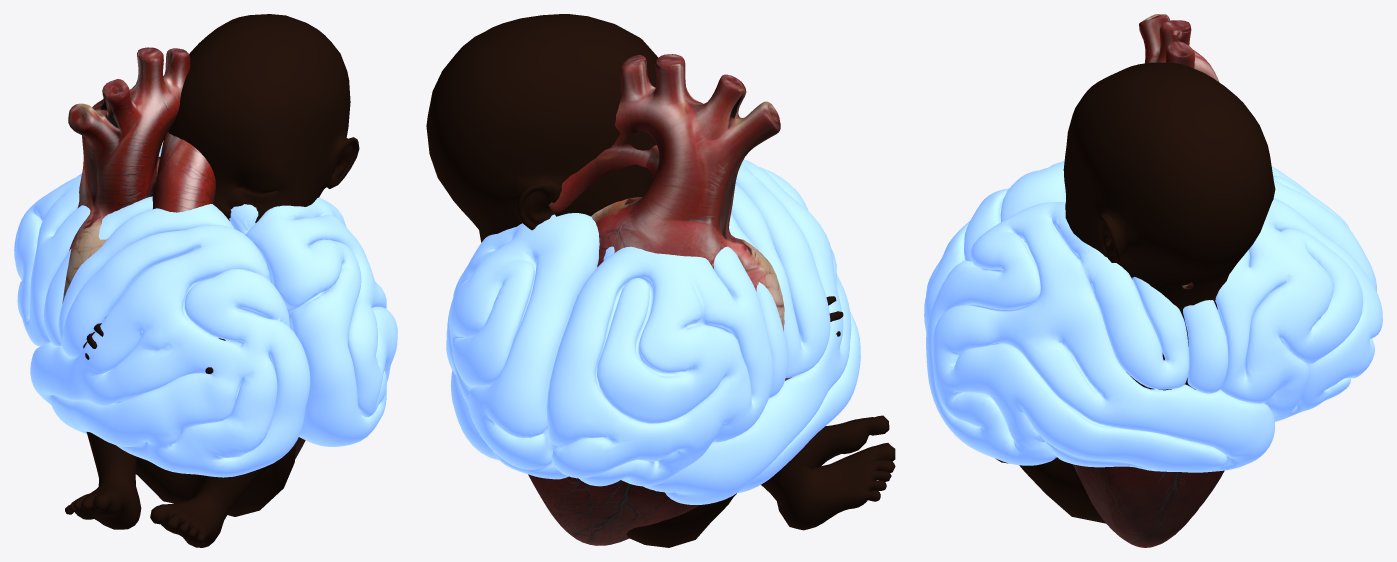
Rendered from HeroModels_24.glb.
3 renders of one model, left to right at view 1: azimuth 30°, elevation 25°; view 2: azimuth 150°, elevation 25°; view 3: azimuth 270°, elevation 25°, orthographic. The views are drawn at different scales.
Visible parts, largest first — view 1: 2_Brian, Baby_ocl_SG_0, 1_Stylized Human Heart; view 2: 2_Brian, Baby_ocl_SG_0, 1_Stylized Human Heart; view 3: 2_Brian, Baby_ocl_SG_0, 1_Stylized Human Heart.
Part boxes in pixels (box(x1,y1,x2,y2)): 2_Brian: box(14, 147, 397, 477); Baby_ocl_SG_0: box(65, 14, 359, 547); 1_Stylized Human Heart: box(62, 47, 305, 459); 2_Brian: box(446, 159, 860, 504); Baby_ocl_SG_0: box(426, 14, 895, 547); 1_Stylized Human Heart: box(528, 54, 792, 545); 2_Brian: box(924, 161, 1382, 472); Baby_ocl_SG_0: box(995, 62, 1275, 523); 1_Stylized Human Heart: box(1072, 14, 1224, 547).
Bounding box in the file's own units: 4.92 × 6.45 × 5.55.
Materials: 3 (1 with a texture image).
